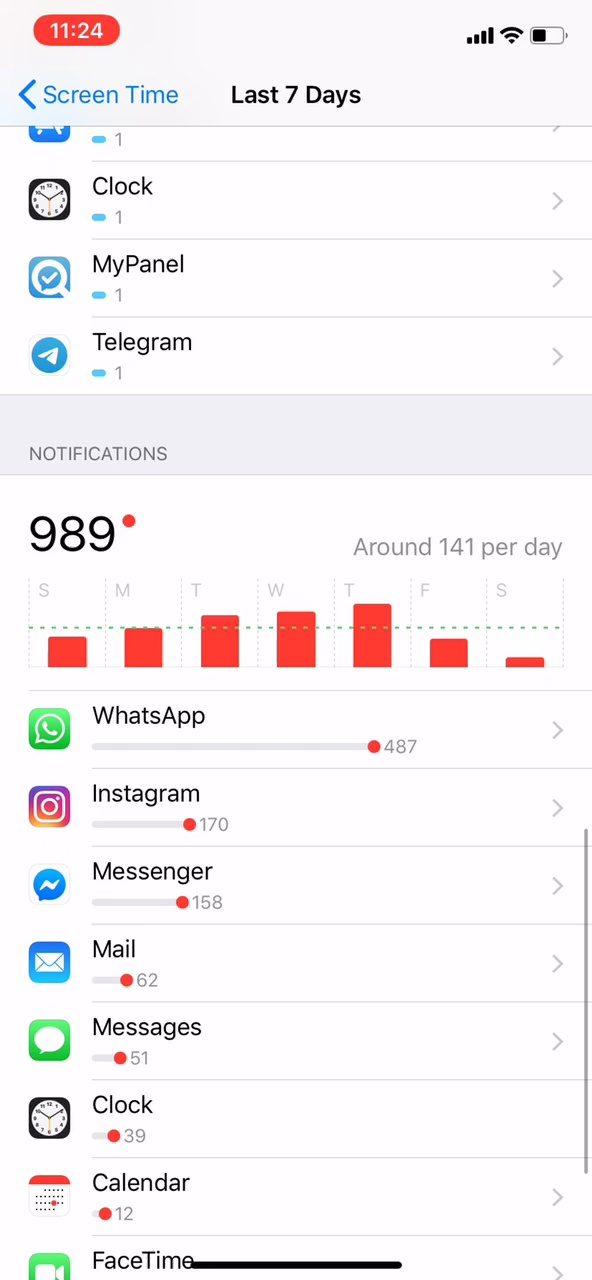not_app: (18, 691, 456, 766), (14, 1163, 259, 1236), (18, 766, 248, 842), (20, 849, 254, 922), (17, 1000, 234, 1074), (17, 1089, 228, 1153), (20, 925, 193, 997)
not_over: (1, 435, 197, 574)
pick_app: (6, 324, 259, 386), (9, 158, 197, 232), (11, 246, 215, 310)
week: (204, 75, 378, 109)
